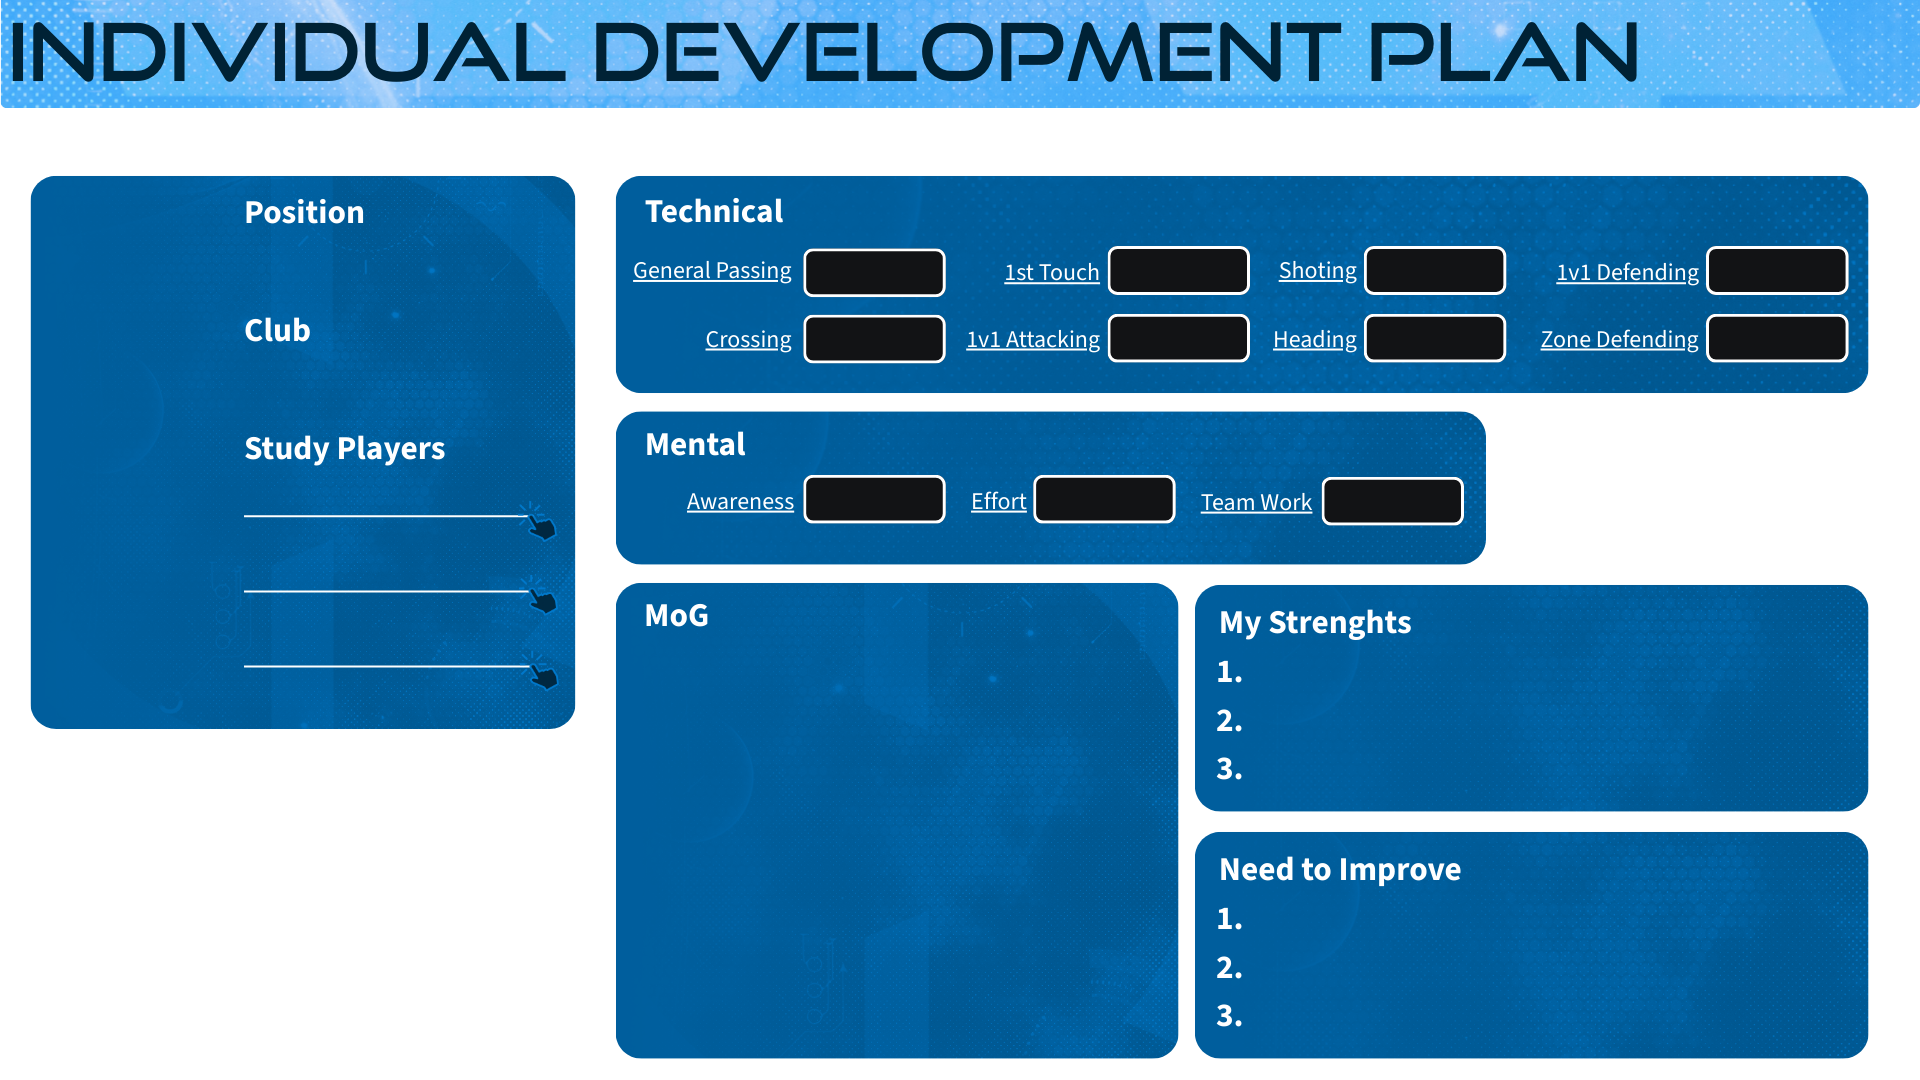

What the dashboard file says about the page in this screenshot:
{"tool":"powerbi","page":{"name":"Capa","canvas":[1280,720],"ordinal":0},"visuals":[{"type":"shape","box":[537.1,166.9,90.9,29.4],"z":0},{"type":"card","fields":{"Values":["Min(Player_Grades.General Passing)"]},"box":[526.2,166.3,112.9,32.4],"z":2000},{"type":"cardVisual","fields":{"Data":["Min(Player_Grades.Position)"]},"box":[148.8,129.3,222.5,76.2],"z":3000},{"type":"cardVisual","fields":{"Data":["Min(Atletas.Club)"]},"box":[148.8,206.8,222.5,75],"z":4000},{"type":"cardVisual","fields":{"Data":["Min(Tb_Study.1)"]},"box":[148.8,288.8,222.2,76.7],"z":5000},{"type":"slicer","fields":{"Values":["Player_Grades.Player"]},"box":[0,68.1,383.2,48.6],"z":6000},{"type":"image","box":[8.8,116.7,148.8,249],"z":7000},{"type":"shape","box":[537.2,211.3,90.9,29.4],"z":8000},{"type":"card","fields":{"Values":["Min(Player_Grades.Crossing)"]},"box":[526.8,211,112.9,31.8],"z":9000},{"type":"shape","box":[740,165.7,90.9,29.4],"z":10000},{"type":"card","fields":{"Values":["Min(Player_Grades.1st Touch)"]},"box":[729.1,165.1,112.9,32.4],"z":11000},{"type":"shape","box":[740,210.4,90.9,29.4],"z":12000},{"type":"card","fields":{"Values":["Min(Player_Grades.1v1 Attacking)"]},"box":[729.1,210.4,112.9,32.4],"z":13000},{"type":"shape","box":[911.2,165.8,90.9,29.4],"z":14000},{"type":"card","fields":{"Values":["Min(Player_Grades.Shoting)"]},"box":[900.6,164.4,112.4,31.8],"z":15000},{"type":"shape","box":[911.1,210.5,90.9,29.4],"z":16000},{"type":"card","fields":{"Values":["Min(Player_Grades.Heading)"]},"box":[900.6,210.3,112.4,31.8],"z":17000},{"type":"shape","box":[1139.4,165.5,90.9,29.4],"z":18000},{"type":"card","fields":{"Values":["Min(Player_Grades.1v1 Defending)"]},"box":[1128.6,165.5,112.9,32.4],"z":19000},{"type":"shape","box":[1138.8,210.4,90.9,29.4],"z":20000},{"type":"card","fields":{"Values":["Min(Player_Grades.Off Ball Defending)"]},"box":[1128,210.4,112.9,32.4],"z":21000},{"type":"shape","box":[537.6,318,90.9,29.4],"z":22000},{"type":"card","fields":{"Values":["Min(Player_Grades.Awareness)"]},"box":[527.5,317.9,112.2,31.1],"z":23000},{"type":"shape","box":[690.9,317.7,90.9,29.4],"z":24000},{"type":"card","fields":{"Values":["Min(Player_Grades.Effort)"]},"box":[680.8,317.9,112.2,31.1],"z":25000},{"type":"shape","box":[883.5,319.6,90.9,29.4],"z":26000},{"type":"card","fields":{"Values":["Min(Player_Grades.Team Work)"]},"box":[873.2,319,112.2,32.2],"z":27000},{"type":"radarChart","fields":{"category":["Tb_Radar.Índice"],"measure":["Sum(Tb_Radar.Valor)"]},"box":[394.9,388.1,397.8,323.9],"z":28000},{"type":"cardVisual","fields":{"Data":["Min(Tb_Strenghts.1)"]},"box":[815.1,407.6,434.4,75.6],"z":29000},{"type":"cardVisual","fields":{"Data":["Min(Tb_Strenghts.2)"]},"box":[815.1,439.8,434.4,75.6],"z":30000},{"type":"cardVisual","fields":{"Data":["Min(Tb_Strenghts.3)"]},"box":[814,472,435.6,75.6],"z":31000},{"type":"cardVisual","fields":{"Data":["Min(Tb_Study.2)"]},"box":[148.8,336.6,222.2,76.7],"z":32000},{"type":"cardVisual","fields":{"Data":["Min(Tb_Study.3)"]},"box":[148.8,390,222.2,76.7],"z":33000},{"type":"cardVisual","fields":{"Data":["Min(Tb_Improve.1)"]},"box":[816.2,572,434.4,75.6],"z":34000},{"type":"cardVisual","fields":{"Data":["Min(Tb_Improve.2)"]},"box":[816.2,604.2,434.4,75.6],"z":35000},{"type":"cardVisual","fields":{"Data":["Min(Tb_Improve.3)"]},"box":[815.1,636.5,435.6,75.6],"z":36000}]}

Visuals, with their boxes in screenshot pixels (x1, y1, x2, y2), scaled from the page's 1280x720 canvas onto the 1920x1080 screenshot:
shape: (x1=806, y1=250, x2=942, y2=294)
card - Min(Player_Grades.General Passing): (x1=789, y1=249, x2=959, y2=298)
cardVisual - Min(Player_Grades.Position): (x1=223, y1=194, x2=557, y2=308)
cardVisual - Min(Atletas.Club): (x1=223, y1=310, x2=557, y2=423)
cardVisual - Min(Tb_Study.1): (x1=223, y1=433, x2=556, y2=548)
slicer - Player_Grades.Player: (x1=0, y1=102, x2=575, y2=175)
image: (x1=13, y1=175, x2=236, y2=549)
shape: (x1=806, y1=317, x2=942, y2=361)
card - Min(Player_Grades.Crossing): (x1=790, y1=316, x2=960, y2=364)
shape: (x1=1110, y1=249, x2=1246, y2=293)
card - Min(Player_Grades.1st Touch): (x1=1094, y1=248, x2=1263, y2=296)
shape: (x1=1110, y1=316, x2=1246, y2=360)
card - Min(Player_Grades.1v1 Attacking): (x1=1094, y1=316, x2=1263, y2=364)
shape: (x1=1367, y1=249, x2=1503, y2=293)
card - Min(Player_Grades.Shoting): (x1=1351, y1=247, x2=1520, y2=294)
shape: (x1=1367, y1=316, x2=1503, y2=360)
card - Min(Player_Grades.Heading): (x1=1351, y1=315, x2=1520, y2=363)
shape: (x1=1709, y1=248, x2=1845, y2=292)
card - Min(Player_Grades.1v1 Defending): (x1=1693, y1=248, x2=1862, y2=297)
shape: (x1=1708, y1=316, x2=1845, y2=360)
card - Min(Player_Grades.Off Ball Defending): (x1=1692, y1=316, x2=1861, y2=364)
shape: (x1=806, y1=477, x2=943, y2=521)
card - Min(Player_Grades.Awareness): (x1=791, y1=477, x2=960, y2=524)
shape: (x1=1036, y1=477, x2=1173, y2=521)
card - Min(Player_Grades.Effort): (x1=1021, y1=477, x2=1190, y2=524)
shape: (x1=1325, y1=479, x2=1462, y2=524)
card - Min(Player_Grades.Team Work): (x1=1310, y1=478, x2=1478, y2=527)
radarChart - Tb_Radar.Índice x Sum(Tb_Radar.Valor): (x1=592, y1=582, x2=1189, y2=1068)
cardVisual - Min(Tb_Strenghts.1): (x1=1223, y1=611, x2=1874, y2=725)
cardVisual - Min(Tb_Strenghts.2): (x1=1223, y1=660, x2=1874, y2=773)
cardVisual - Min(Tb_Strenghts.3): (x1=1221, y1=708, x2=1874, y2=821)
cardVisual - Min(Tb_Study.2): (x1=223, y1=505, x2=556, y2=620)
cardVisual - Min(Tb_Study.3): (x1=223, y1=585, x2=556, y2=700)
cardVisual - Min(Tb_Improve.1): (x1=1224, y1=858, x2=1876, y2=971)
cardVisual - Min(Tb_Improve.2): (x1=1224, y1=906, x2=1876, y2=1020)
cardVisual - Min(Tb_Improve.3): (x1=1223, y1=955, x2=1876, y2=1068)
